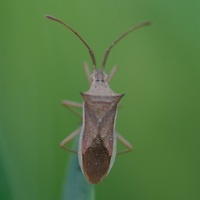insect: (46, 16, 149, 183)
